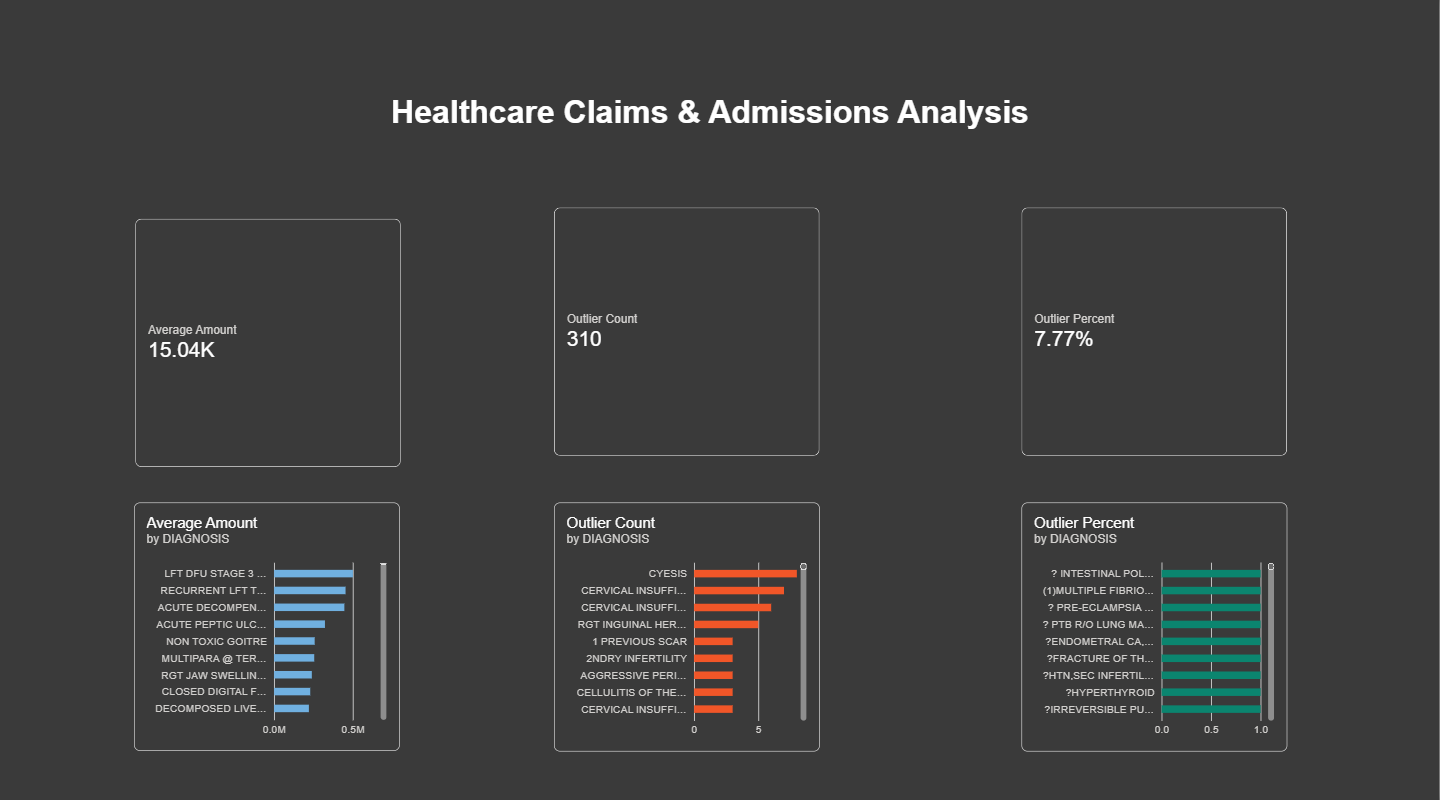

Layout of this report page (visuals, bound fields, positions):
{"tool":"powerbi","page":{"name":"Page 1","canvas":[1920,1080],"ordinal":0},"visuals":[{"type":"cardVisual","fields":{"Data":["powerbi_full_data.Average Amount"]},"box":[182,298,354,331.4],"z":0},{"type":"cardVisual","fields":{"Data":["powerbi_full_data.Outlier Count"]},"box":[740,284,354,331],"z":1000},{"type":"cardVisual","fields":{"Data":["powerbi_full_data.Outlier Percent"]},"box":[1364,284,354,331],"z":2000},{"type":"clusteredBarChart","fields":{"Category":["powerbi_full_data.DIAGNOSIS"],"Y":["powerbi_full_data.Average Amount"]},"box":[180,676,354,331],"z":3000},{"type":"clusteredBarChart","fields":{"Category":["powerbi_full_data.DIAGNOSIS"],"Y":["powerbi_full_data.Outlier Count"]},"box":[740,676,354,332],"z":4000},{"type":"clusteredBarChart","fields":{"Category":["powerbi_full_data.DIAGNOSIS"],"Y":["powerbi_full_data.Outlier Percent"]},"box":[1364,676,354,332],"z":5000},{"type":"textbox","box":[150,132,1596,96],"z":6000}]}

Visuals, with their boxes in screenshot pixels (x1, y1, x2, y2), scaled from the page's 1920x1080 canvas onto the 1440x800 screenshot:
cardVisual - powerbi_full_data.Average Amount: x1=136, y1=221, x2=402, y2=466
cardVisual - powerbi_full_data.Outlier Count: x1=555, y1=210, x2=820, y2=456
cardVisual - powerbi_full_data.Outlier Percent: x1=1023, y1=210, x2=1288, y2=456
clusteredBarChart - powerbi_full_data.DIAGNOSIS x powerbi_full_data.Average Amount: x1=135, y1=501, x2=400, y2=746
clusteredBarChart - powerbi_full_data.DIAGNOSIS x powerbi_full_data.Outlier Count: x1=555, y1=501, x2=820, y2=747
clusteredBarChart - powerbi_full_data.DIAGNOSIS x powerbi_full_data.Outlier Percent: x1=1023, y1=501, x2=1288, y2=747
textbox: x1=112, y1=98, x2=1310, y2=169
